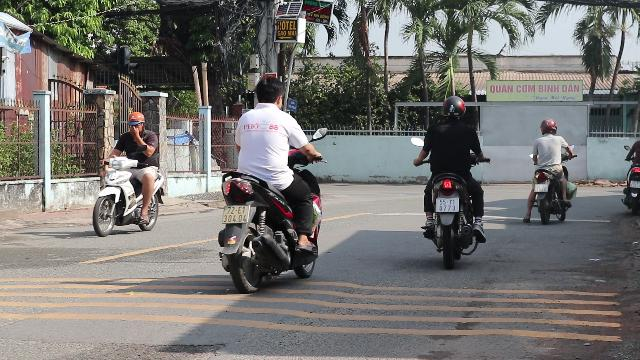helmet: (441, 96, 465, 122), (126, 112, 146, 132), (538, 117, 558, 134)
licenseplate: (222, 205, 250, 223), (436, 198, 458, 212), (534, 184, 548, 192)
motorcyclist: (212, 72, 326, 290), (414, 94, 490, 264), (90, 110, 166, 236), (524, 117, 576, 222)
nohelmet: (252, 74, 286, 108)
